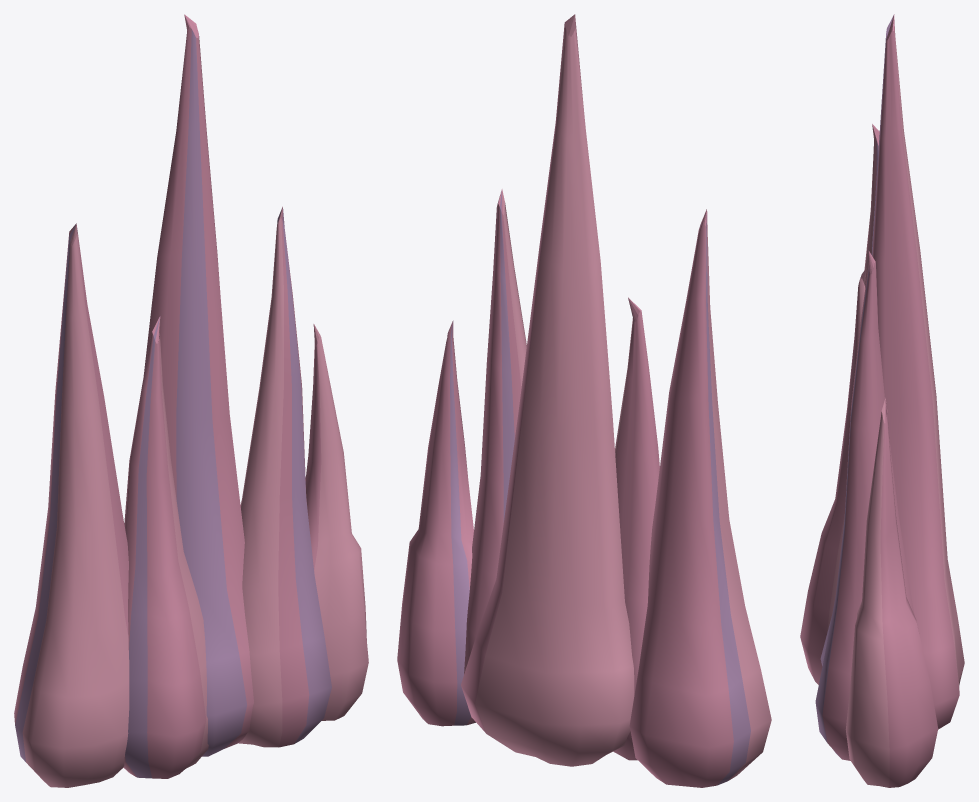
File: pink-spires.glb
The picture shows the model from 3 angles, left to right: view 1: azimuth 30°, elevation 25°; view 2: azimuth 150°, elevation 25°; view 3: azimuth 270°, elevation 25°; orthographic projection. The views are drawn at different scales.
Parts seen in each view (by area): view 1: Pink sugar spire 01, Pink sugar spire 03, Pink sugar spire 04, Pink sugar spire 02, Pink sugar spire 05; view 2: Pink sugar spire 03, Pink sugar spire 01, Pink sugar spire 05, Pink sugar spire 04, Pink sugar spire 02; view 3: Pink sugar spire 03, Pink sugar spire 05, Pink sugar spire 04, Pink sugar spire 02, Pink sugar spire 01.
Boxes of the visible parts, bbox=[...] form: Pink sugar spire 01: bbox=[14, 223, 129, 787]; Pink sugar spire 03: bbox=[143, 14, 253, 756]; Pink sugar spire 04: bbox=[238, 206, 331, 747]; Pink sugar spire 02: bbox=[123, 316, 208, 778]; Pink sugar spire 05: bbox=[305, 324, 368, 720]; Pink sugar spire 03: bbox=[461, 14, 634, 766]; Pink sugar spire 01: bbox=[629, 209, 771, 787]; Pink sugar spire 05: bbox=[397, 320, 475, 726]; Pink sugar spire 04: bbox=[464, 189, 526, 673]; Pink sugar spire 02: bbox=[613, 297, 659, 760]; Pink sugar spire 03: bbox=[820, 14, 964, 729]; Pink sugar spire 05: bbox=[845, 398, 938, 787]; Pink sugar spire 04: bbox=[815, 251, 914, 760]; Pink sugar spire 02: bbox=[800, 268, 866, 684]; Pink sugar spire 01: bbox=[864, 124, 879, 286].
Bounding box in the file's own units: 2.67 × 5.3 × 1.13.
